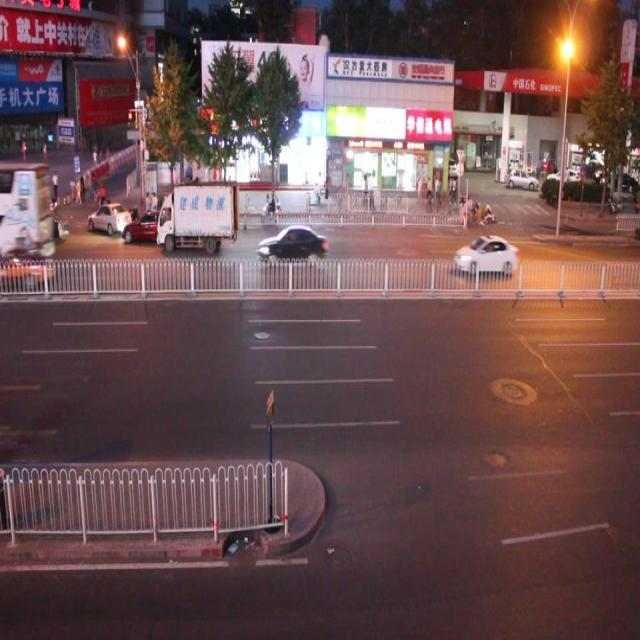bus: (153, 184, 240, 259)
car: (257, 223, 329, 268), (451, 232, 518, 276), (120, 210, 182, 251), (0, 248, 54, 294), (13, 204, 69, 248), (86, 200, 129, 242), (26, 182, 63, 221)
van: (1, 164, 54, 259)
